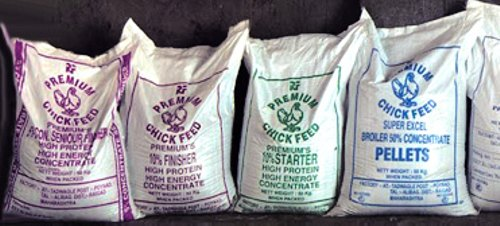feed_bag: (1, 19, 143, 224)
